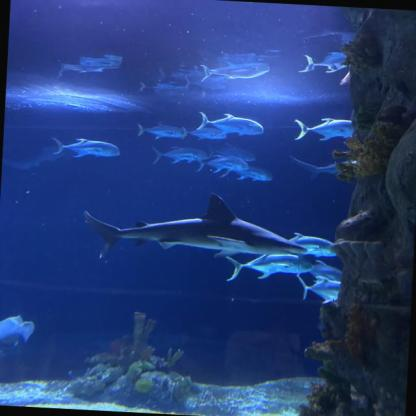fish: (224, 250, 318, 286), (45, 134, 125, 164), (193, 110, 268, 140), (292, 116, 363, 144), (144, 143, 210, 172), (200, 59, 271, 85), (294, 271, 346, 306), (282, 230, 342, 259), (195, 154, 252, 180), (0, 312, 38, 349), (131, 119, 192, 142), (297, 258, 342, 286), (302, 52, 354, 76), (233, 163, 278, 186)
shark: (82, 186, 309, 271), (289, 154, 377, 182)
